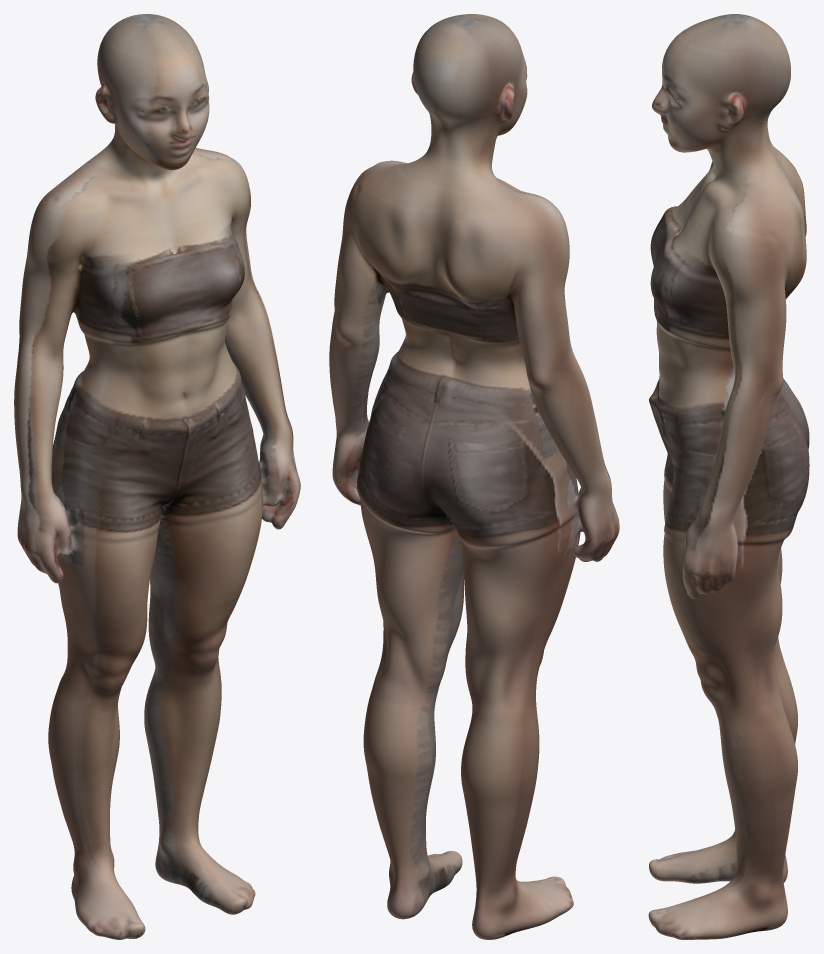
The model's file is projected.glb.
3 renders of one model, left to right at view 1: azimuth 30°, elevation 25°; view 2: azimuth 150°, elevation 25°; view 3: azimuth 270°, elevation 25°, orthographic.
Parts seen in each view (by area): view 1: tmppa23137e.ply; view 2: tmppa23137e.ply; view 3: tmppa23137e.ply.
Boxes of the visible parts, <box> form: tmppa23137e.ply: <box>14,14,300,939</box>; tmppa23137e.ply: <box>329,14,619,939</box>; tmppa23137e.ply: <box>648,14,809,939</box>.
Size of the model in its own units: 0.6433 by 1.99 by 0.3286.
